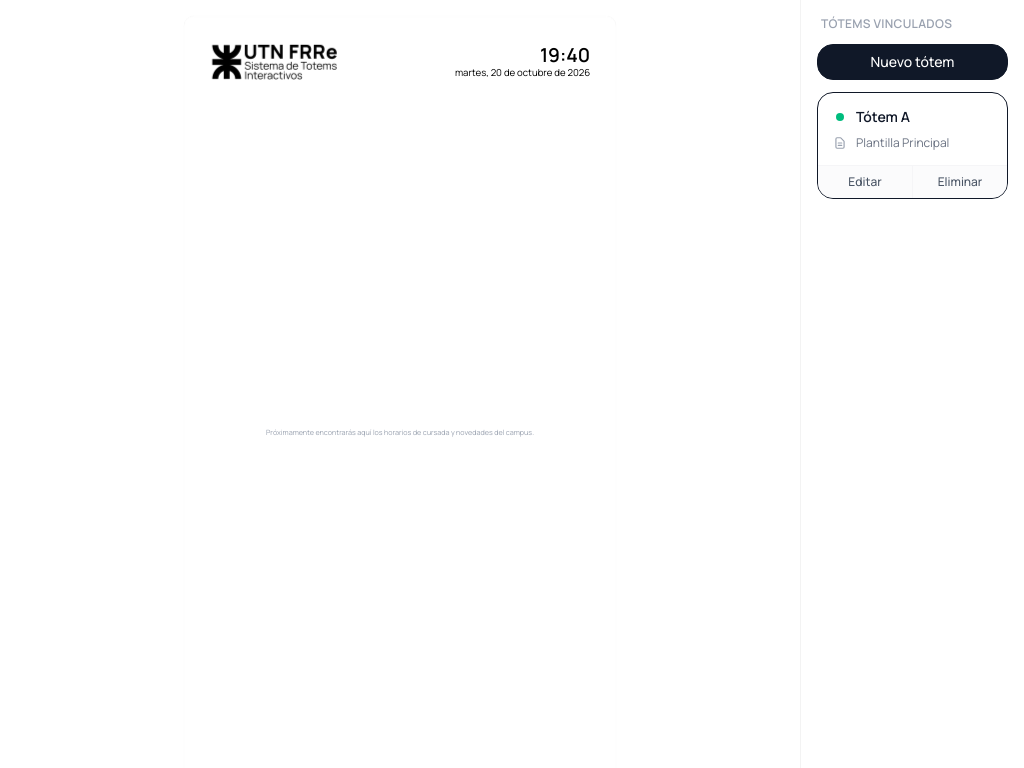
Test: Home › abre el modal de confirmación al eliminar
What coordinates should you click on to do the following:
click the button titled "Eliminar"
I would click on:
 (960, 182)
Its box is [913,166,1007,198].
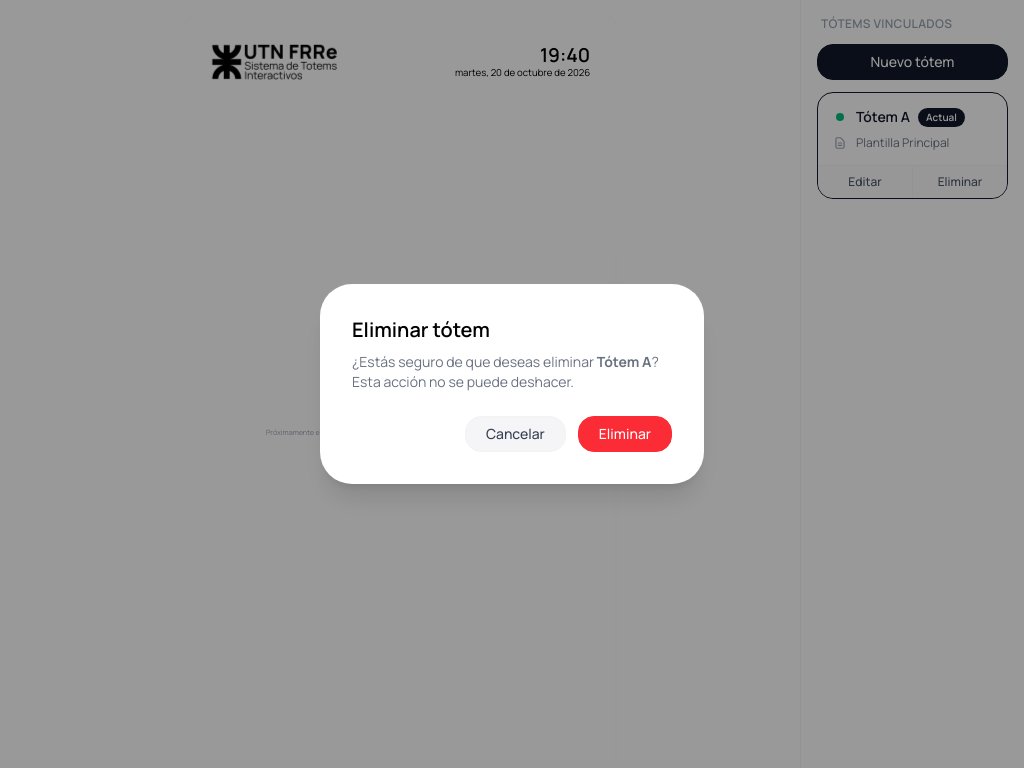
Check: the heading "Eliminar tótem" is shown, box [352,316,490,343]
